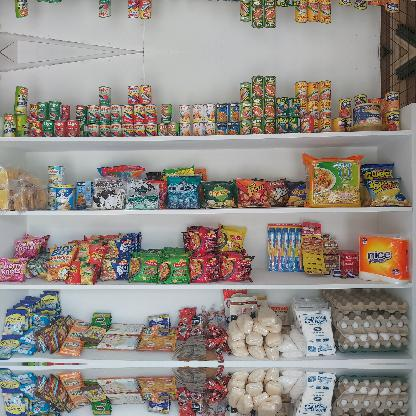Lady-s-Choice: (350, 103, 382, 131)
